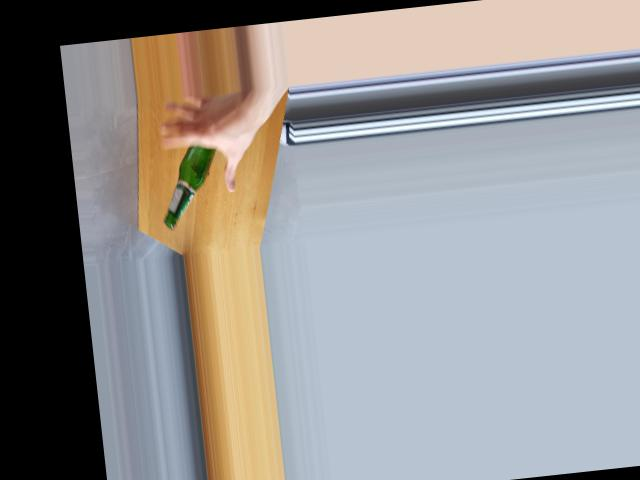beer: (156, 143, 224, 230)
